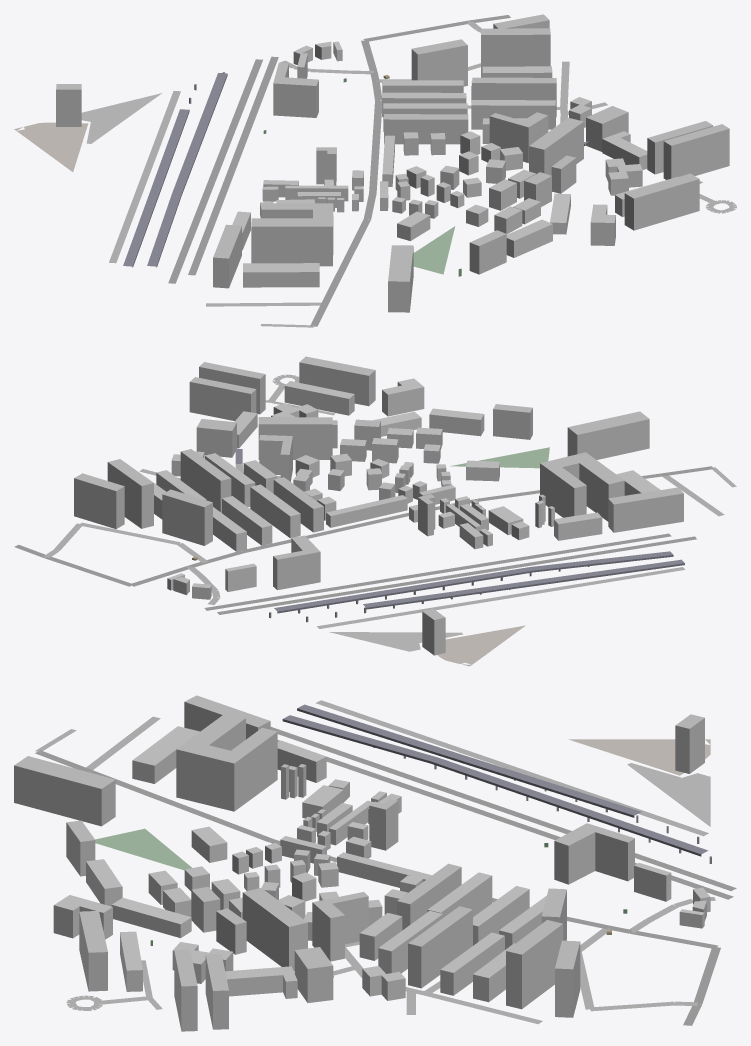
3 renders of one model, top to bottom at view 1: azimuth 30°, elevation 25°; view 2: azimuth 150°, elevation 25°; view 3: azimuth 270°, elevation 25°, orthographic. The views are drawn at different scales.
Size of the model in its own units: 600 by 48.57 by 550.
